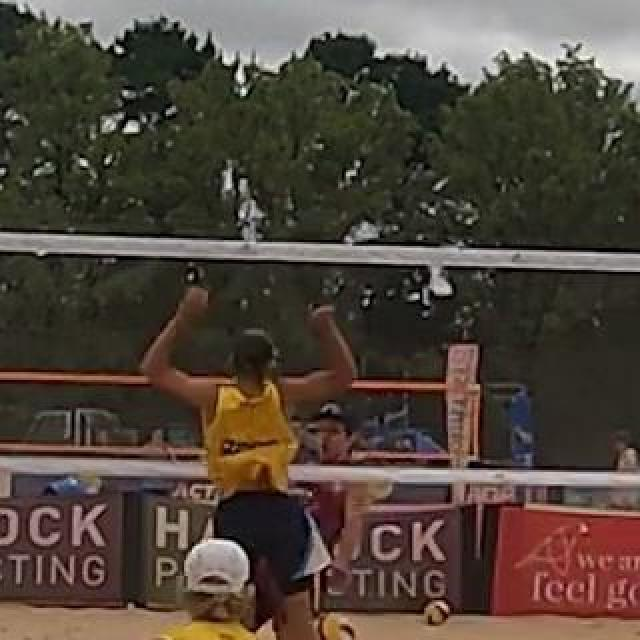volleyball: (313, 614, 357, 640), (425, 600, 449, 626)
